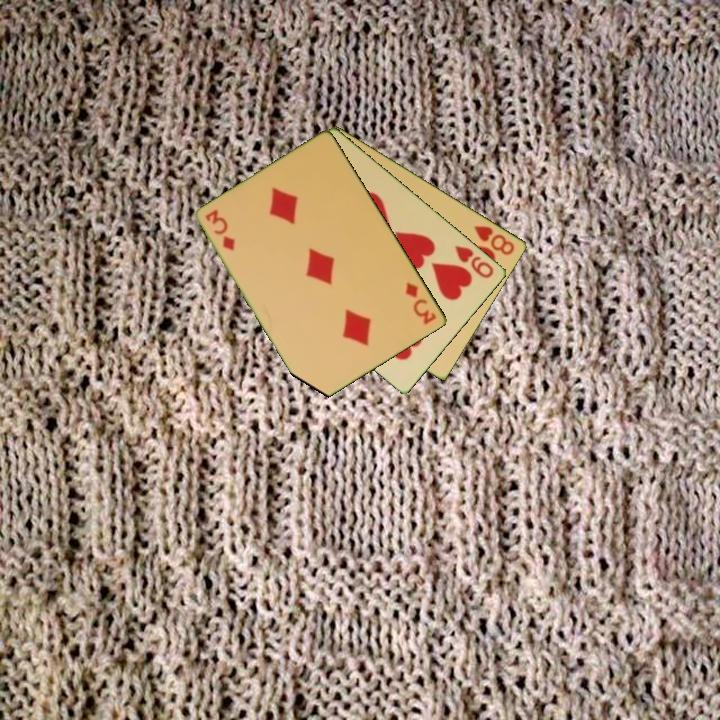3d: (402, 279, 440, 328), (202, 206, 239, 253)
8h: (471, 222, 518, 258)
9h: (452, 242, 497, 281)
